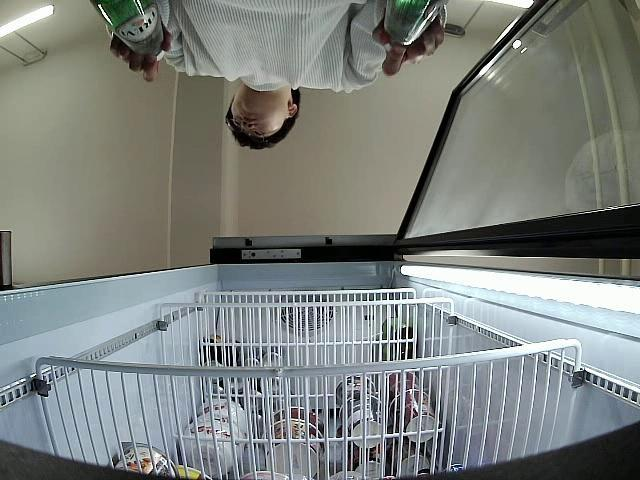18_trevi: (92, 0, 164, 57), (382, 0, 445, 54)
